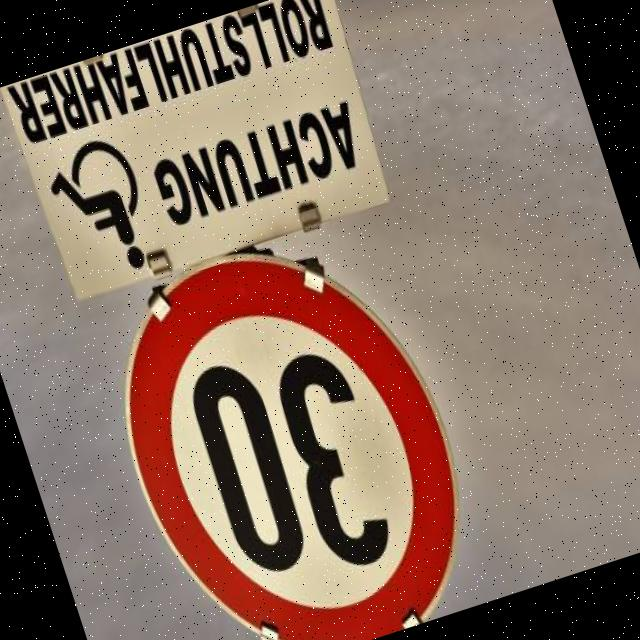speed_limit_30: (65, 213, 501, 640)
